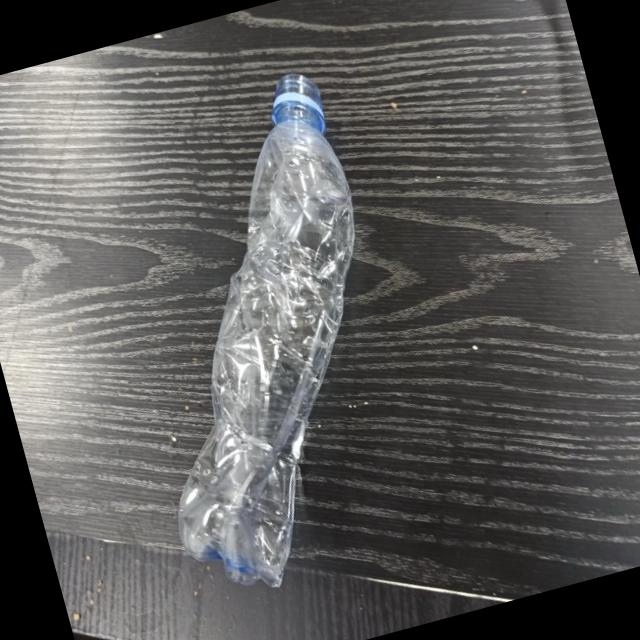BotolPlastik: (70, 64, 446, 608)
